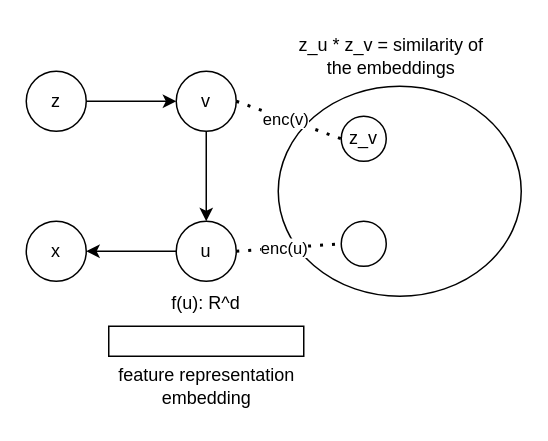
Image size: 548x441. Some labels were removed from this diagram. Each missing label, with the centre of its shape:
d dimensional vector: the point at 205,340
z_u: the point at 363,243
